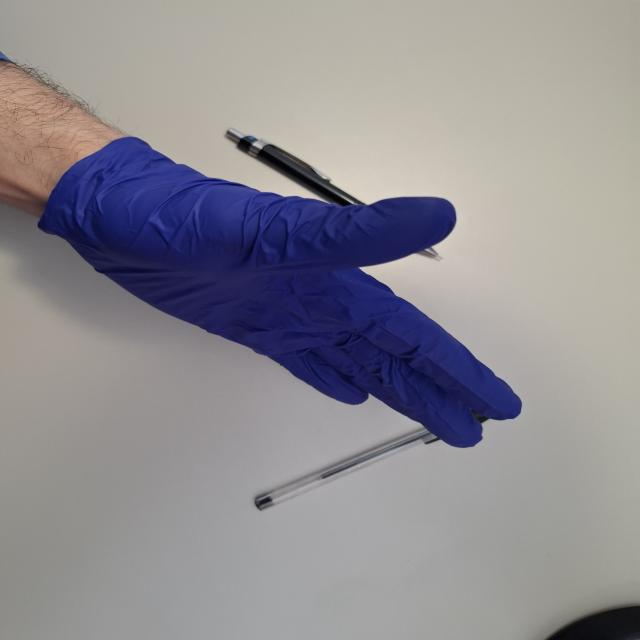glove_on: (37, 133, 527, 452)
